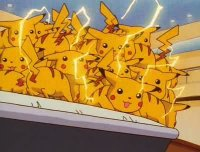pikachu: (21, 41, 89, 104), (87, 69, 156, 117), (123, 92, 192, 125), (82, 28, 136, 61), (42, 48, 100, 78), (1, 17, 49, 44)
